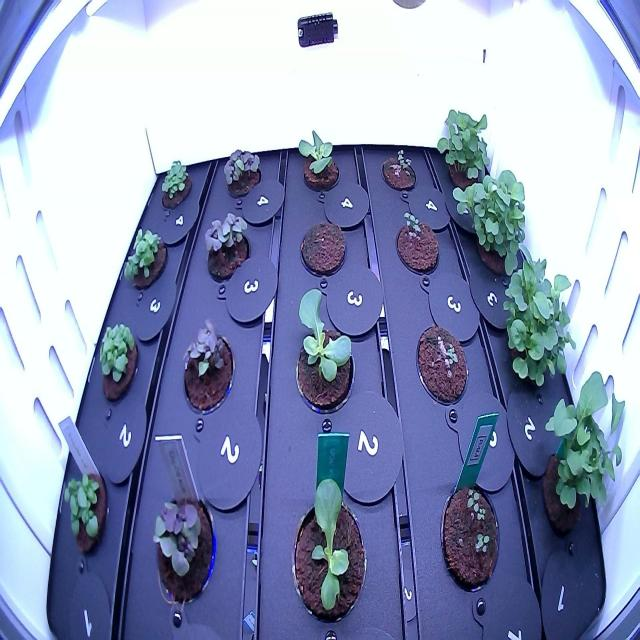germination: (436, 472, 508, 603), (412, 310, 474, 414), (393, 203, 443, 283), (376, 138, 420, 204), (155, 150, 195, 215)
pod: (294, 212, 350, 284)
young: (285, 464, 372, 628), (286, 280, 364, 419), (288, 123, 344, 203)
